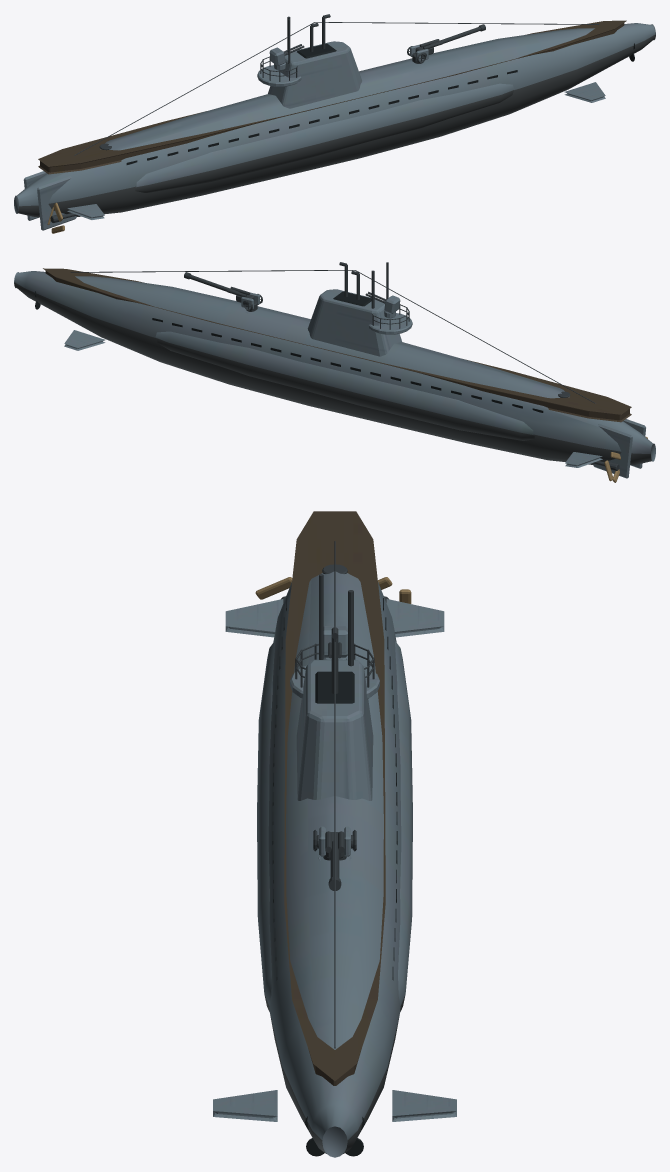
Rendered from submarine-classic.glb.
3 views of the same model, one above another, from view 1: azimuth 30°, elevation 25°; view 2: azimuth 150°, elevation 25°; view 3: azimuth 270°, elevation 25° (orthographic). The views are drawn at different scales.
Visible parts, largest first — view 1: TypeVIIC_Pressure_Hull, TypeVIIC_Saddle_Tank_Port, TypeVIIC_Casing_Deck, TypeVIIC_Tower, TypeVIIC_Rudder_Port, TypeVIIC_Wintergarten, TypeVIIC_Bow_Plane_Port, TypeVIIC_Stern_Plane_Port, TypeVIIC_Rigging_1, TypeVIIC_Rigging_2; view 2: TypeVIIC_Pressure_Hull, TypeVIIC_Saddle_Tank_Starboard, TypeVIIC_Casing_Deck, TypeVIIC_Tower, TypeVIIC_Rudder_Starboard, TypeVIIC_Wintergarten, TypeVIIC_Bow_Plane_Starboard, TypeVIIC_Stern_Plane_Starboard, TypeVIIC_Rigging_1, TypeVIIC_Rigging_2; view 3: TypeVIIC_Pressure_Hull, TypeVIIC_Casing_Deck, TypeVIIC_Tower, TypeVIIC_Saddle_Tank_Starboard, TypeVIIC_Saddle_Tank_Port, TypeVIIC_Bow_Plane_Port, TypeVIIC_Bow_Plane_Starboard, TypeVIIC_Stern_Plane_Port, TypeVIIC_Stern_Plane_Starboard, TypeVIIC_Bridge_Well.
Boxes of the visible parts, <box> form: TypeVIIC_Pressure_Hull: <box>14,23,655,217</box>; TypeVIIC_Saddle_Tank_Port: <box>135,83,514,192</box>; TypeVIIC_Casing_Deck: <box>38,20,626,174</box>; TypeVIIC_Tower: <box>268,41,361,108</box>; TypeVIIC_Rudder_Port: <box>37,176,76,230</box>; TypeVIIC_Wintergarten: <box>257,65,301,86</box>; TypeVIIC_Bow_Plane_Port: <box>564,82,605,102</box>; TypeVIIC_Stern_Plane_Port: <box>67,204,104,219</box>; TypeVIIC_Rigging_1: <box>315,22,599,24</box>; TypeVIIC_Rigging_2: <box>74,22,314,155</box>; TypeVIIC_Pressure_Hull: <box>14,271,655,464</box>; TypeVIIC_Saddle_Tank_Starboard: <box>155,331,534,440</box>; TypeVIIC_Casing_Deck: <box>43,268,631,422</box>; TypeVIIC_Tower: <box>307,289,401,356</box>; TypeVIIC_Rudder_Starboard: <box>593,424,632,478</box>; TypeVIIC_Wintergarten: <box>368,313,412,334</box>; TypeVIIC_Bow_Plane_Starboard: <box>64,330,105,350</box>; TypeVIIC_Stern_Plane_Starboard: <box>565,452,602,467</box>; TypeVIIC_Rigging_1: <box>70,270,354,272</box>; TypeVIIC_Rigging_2: <box>355,270,595,403</box>; TypeVIIC_Pressure_Hull: <box>268,571,401,1157</box>; TypeVIIC_Casing_Deck: <box>284,511,385,1085</box>; TypeVIIC_Tower: <box>296,659,373,800</box>; TypeVIIC_Saddle_Tank_Starboard: <box>394,640,412,1011</box>; TypeVIIC_Saddle_Tank_Port: <box>257,640,275,1011</box>; TypeVIIC_Bow_Plane_Port: <box>213,1090,277,1121</box>; TypeVIIC_Bow_Plane_Starboard: <box>392,1090,456,1121</box>; TypeVIIC_Stern_Plane_Port: <box>225,599,283,637</box>; TypeVIIC_Stern_Plane_Starboard: <box>386,599,444,637</box>; TypeVIIC_Bridge_Well: <box>315,671,354,703</box>.
Bounding box in the file's own units: 32 × 7.47 × 5.31.
7 materials, 2 textured.
